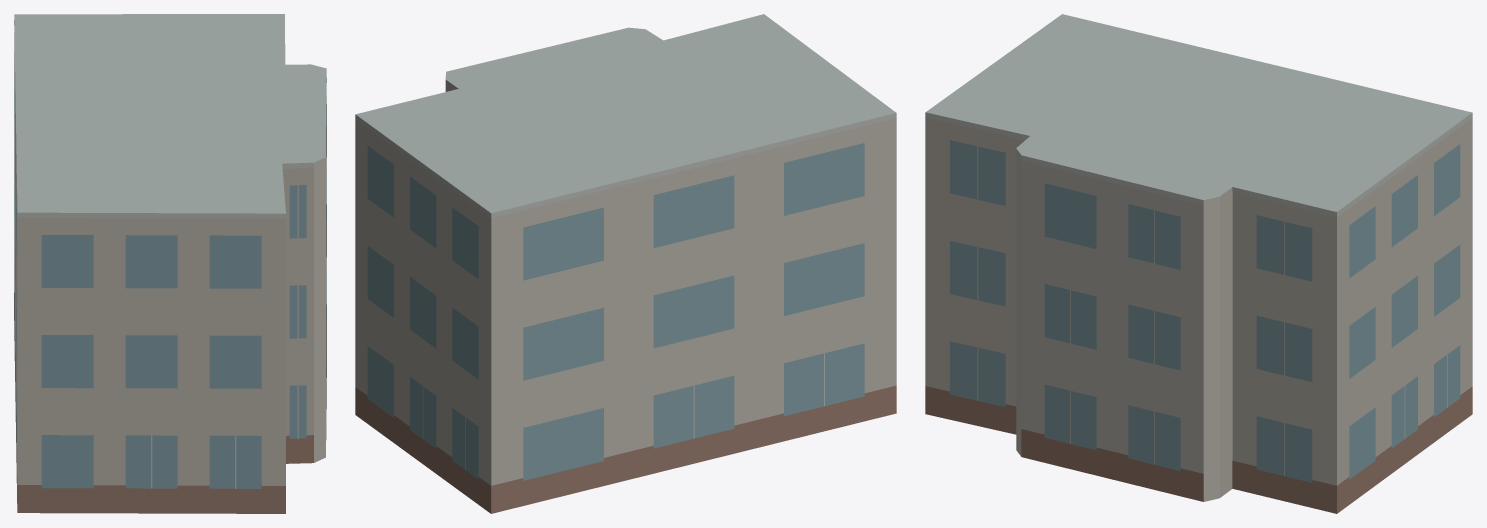
The model's file is survey-upis-32948460.glb.
The picture shows the model from 3 angles, left to right: view 1: azimuth 30°, elevation 25°; view 2: azimuth 150°, elevation 25°; view 3: azimuth 270°, elevation 25°; orthographic projection.
Parts seen in each view (by area): view 1: survey-upis-32948460.tmp; view 2: survey-upis-32948460.tmp; view 3: survey-upis-32948460.tmp.
Part boxes in pixels (left/top/right/bottom): survey-upis-32948460.tmp: left=14, top=14, right=326, bottom=513; survey-upis-32948460.tmp: left=355, top=14, right=896, bottom=513; survey-upis-32948460.tmp: left=925, top=14, right=1472, bottom=513.
Size of the model in its own units: 19.65 by 13.95 by 22.93.
